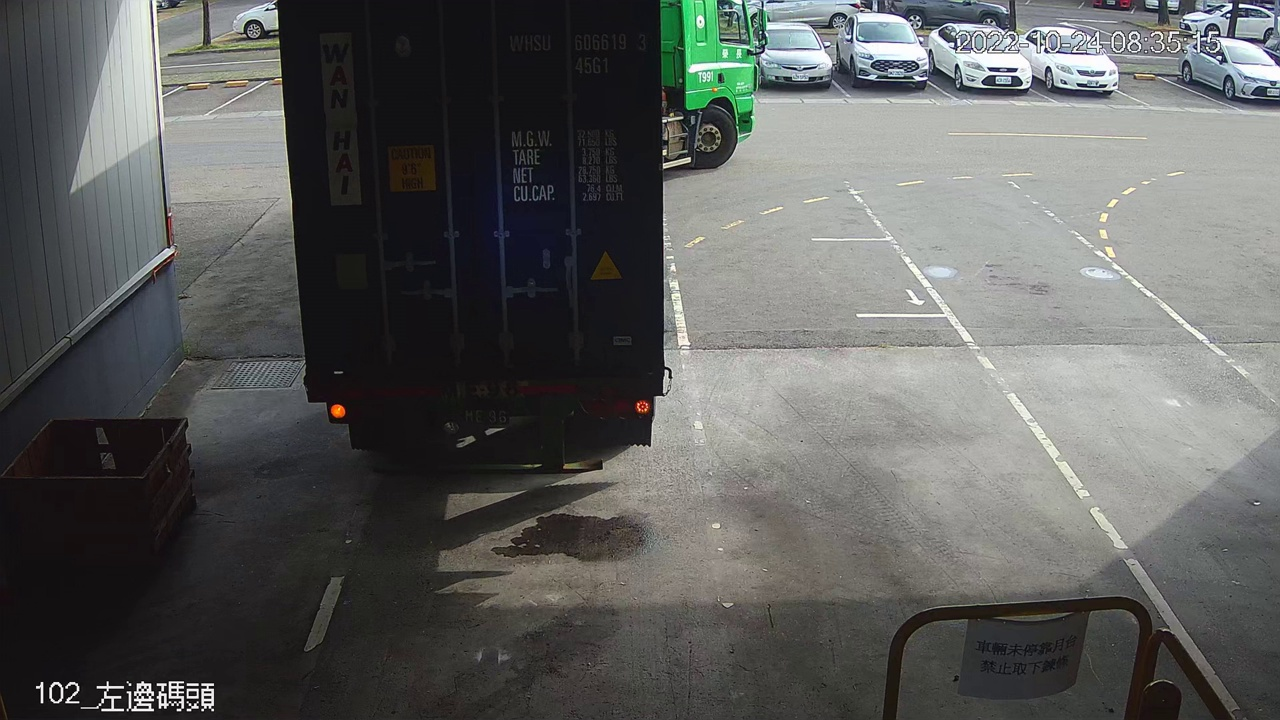container: (501, 22, 653, 82)
